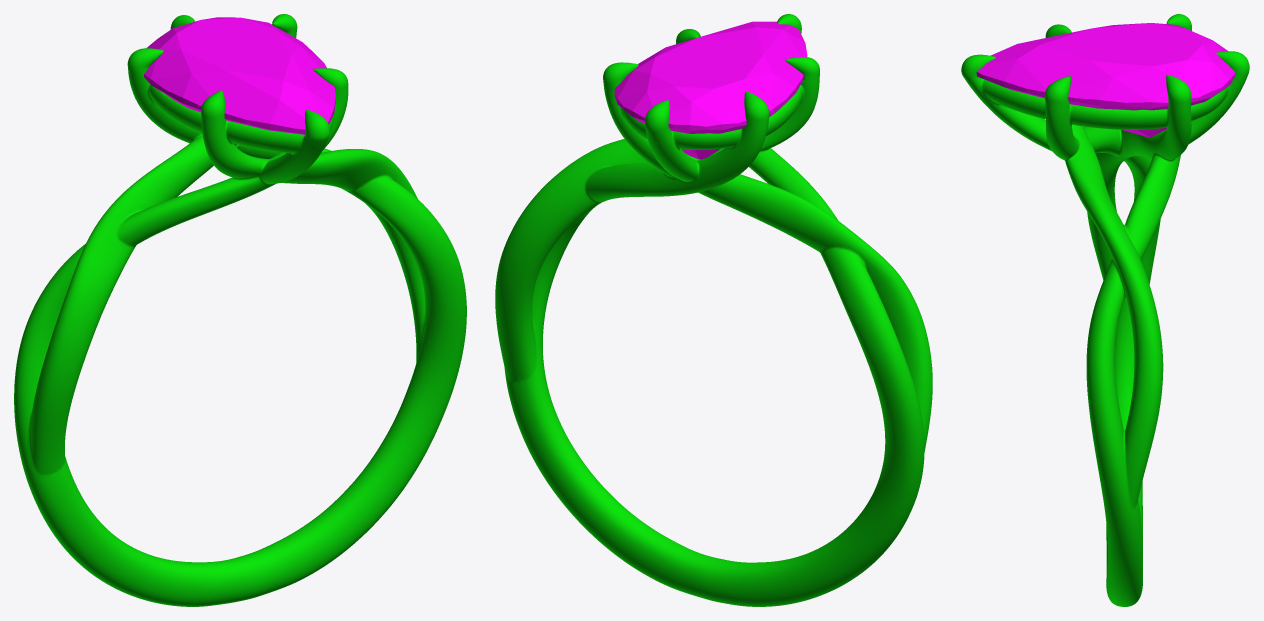
File: BE1818_PE_200ct_RENDER.glb
3 views of the same model, side by side, from view 1: azimuth 30°, elevation 25°; view 2: azimuth 150°, elevation 25°; view 3: azimuth 270°, elevation 25° (orthographic). The views are drawn at different scales.
Parts seen in each view (by area): view 1: Metal 01, CS_Diamond_Pear; view 2: Metal 01, CS_Diamond_Pear; view 3: Metal 01, CS_Diamond_Pear.
Boxes of the visible parts, left/top/right/bottom form: Metal 01: left=14, top=14, right=466, bottom=606; CS_Diamond_Pear: left=144, top=17, right=335, bottom=134; Metal 01: left=495, top=14, right=932, bottom=606; CS_Diamond_Pear: left=614, top=21, right=807, bottom=159; Metal 01: left=961, top=14, right=1249, bottom=606; CS_Diamond_Pear: left=976, top=23, right=1234, bottom=137.
Size of the model in its own units: 19.97 by 24.11 by 11.69.
